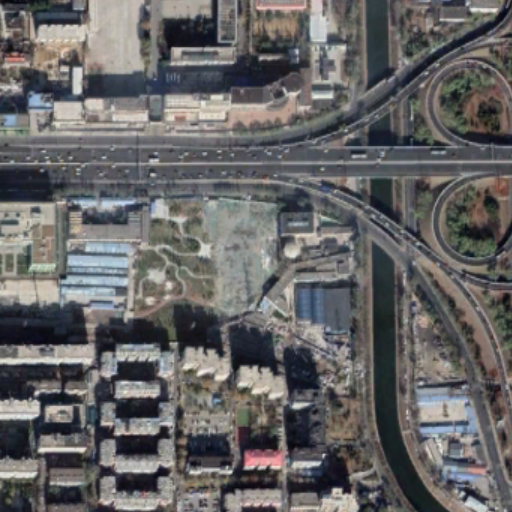cw: (200, 191, 281, 321)
